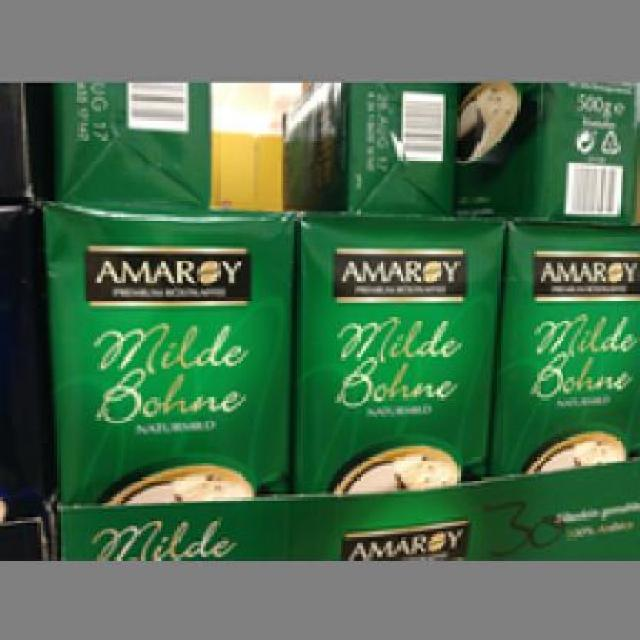Coffee: (38, 200, 292, 497), (288, 206, 502, 488), (486, 222, 634, 475), (274, 82, 452, 208)
